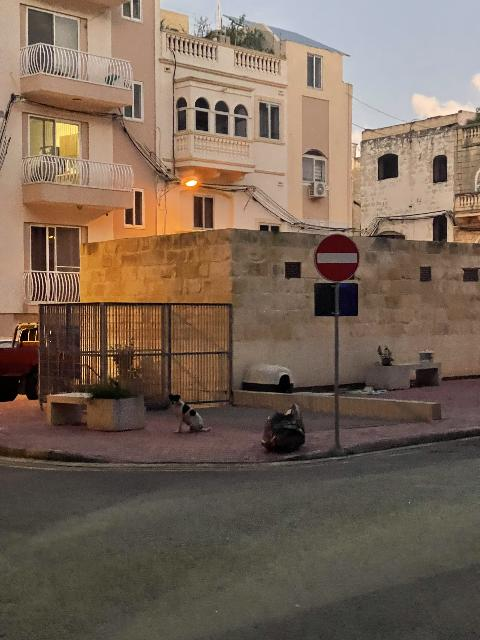Mixed -Black-: (261, 404, 305, 453)
